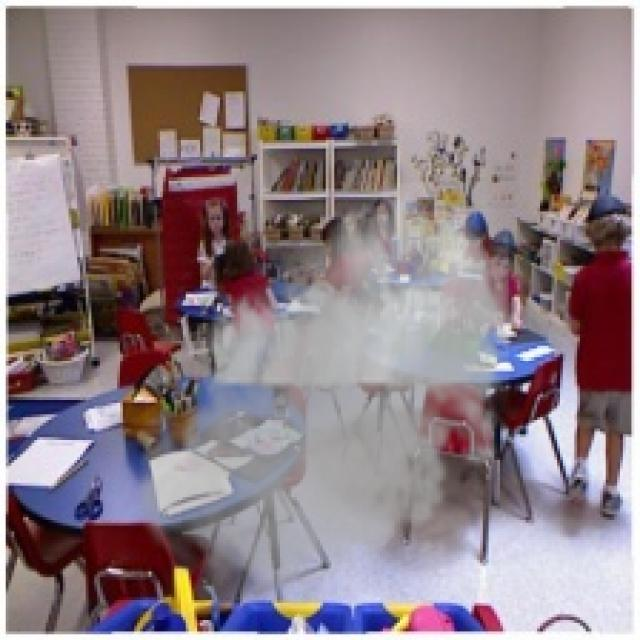smoke: (128, 183, 526, 608)
